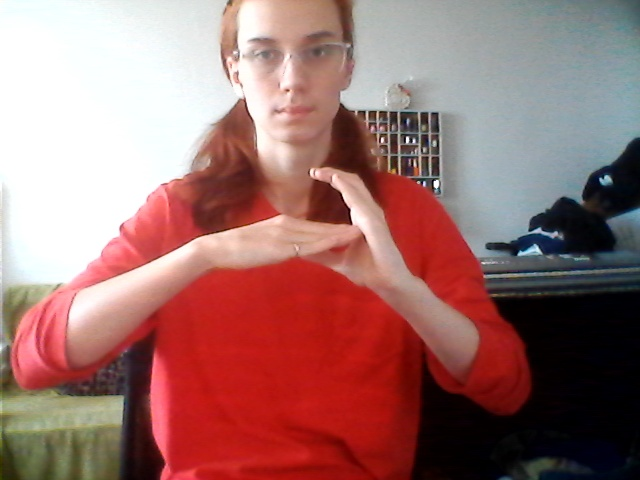e: (236, 162, 417, 303)
